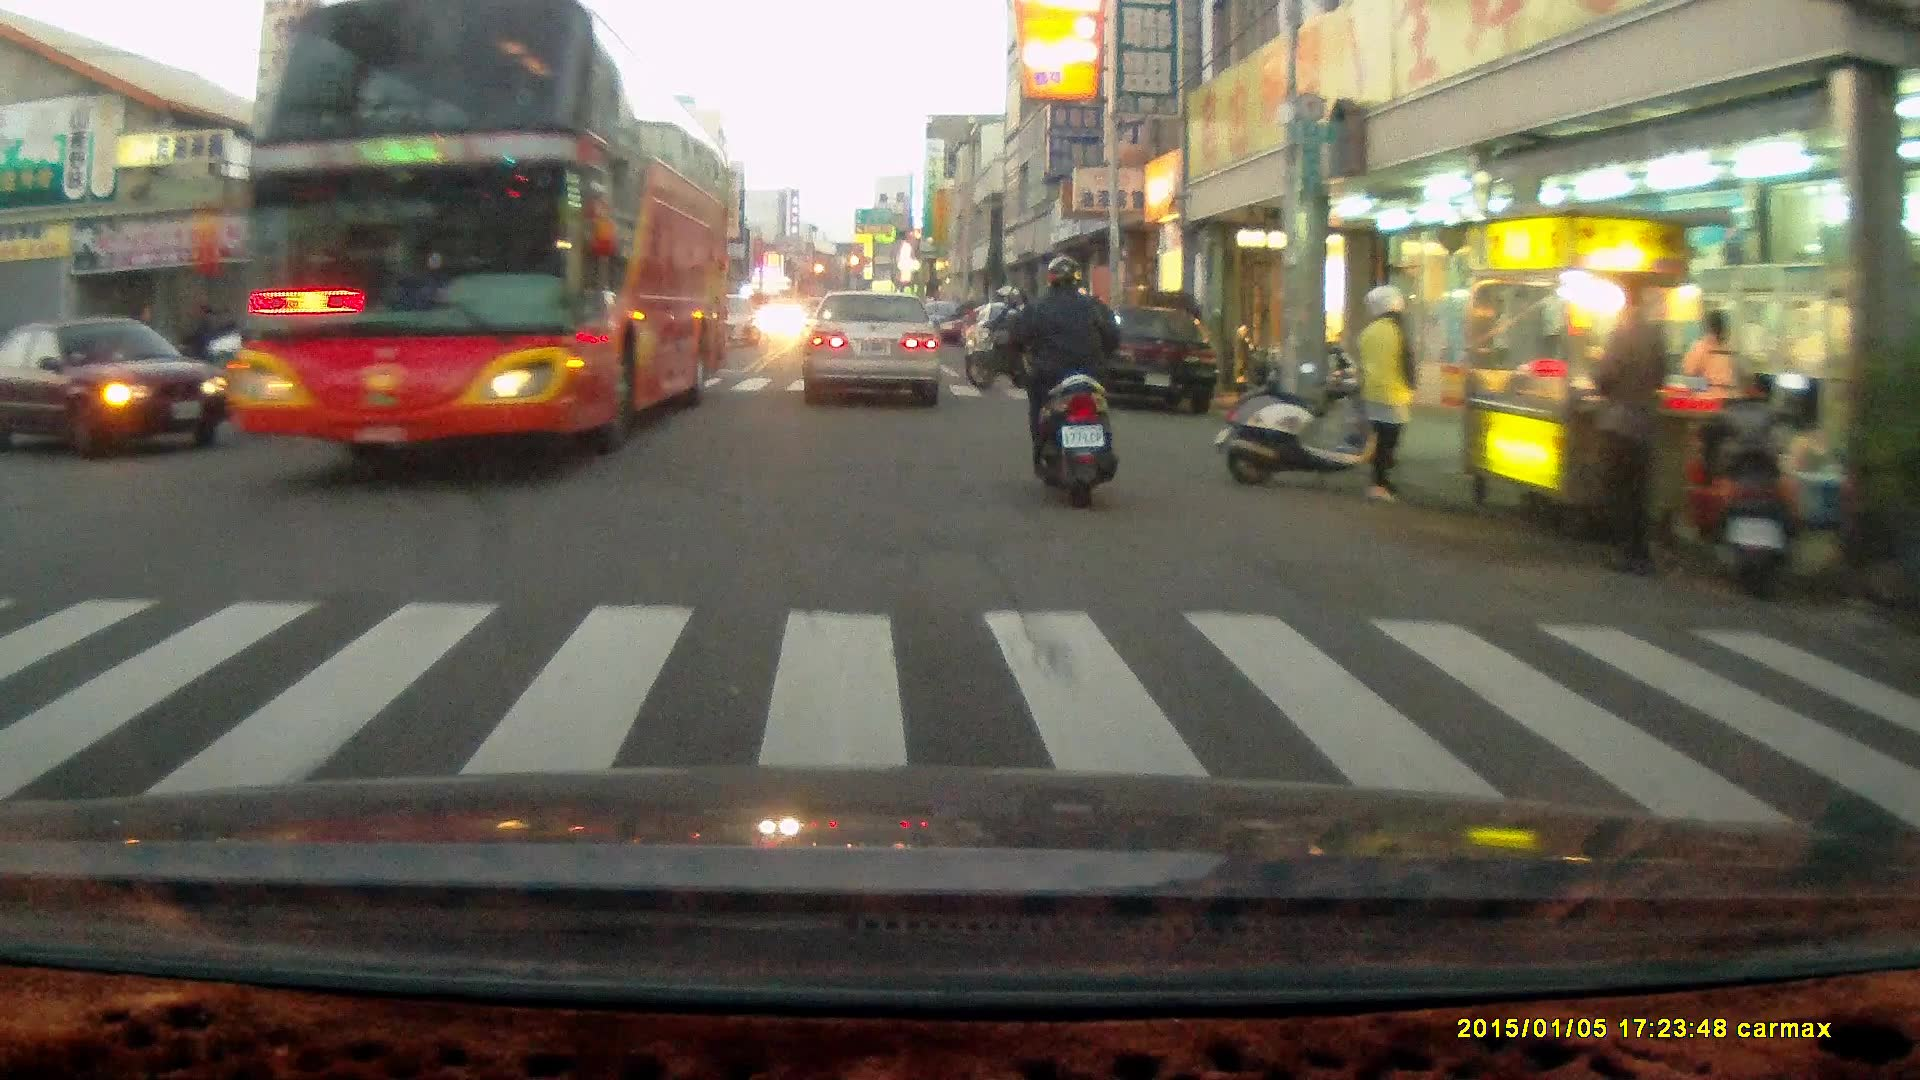pedestrian: (1584, 278, 1670, 579), (1352, 286, 1421, 507), (1685, 309, 1745, 480)
rider: (1003, 253, 1120, 507), (965, 283, 1035, 391), (163, 297, 239, 395)
vehicle: (224, 32, 727, 461), (1, 313, 235, 460), (1063, 302, 1222, 418), (802, 293, 946, 406)
